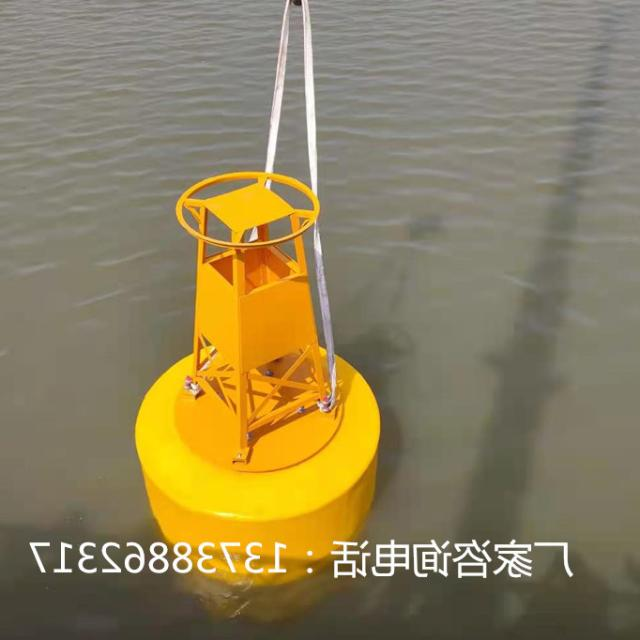buoy: (144, 167, 375, 570)
